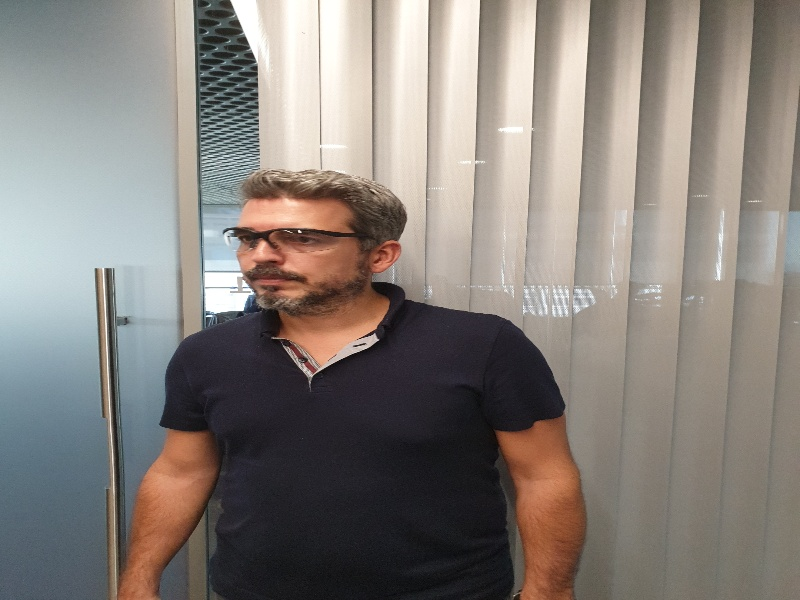Gozluk: (223, 225, 358, 253)
